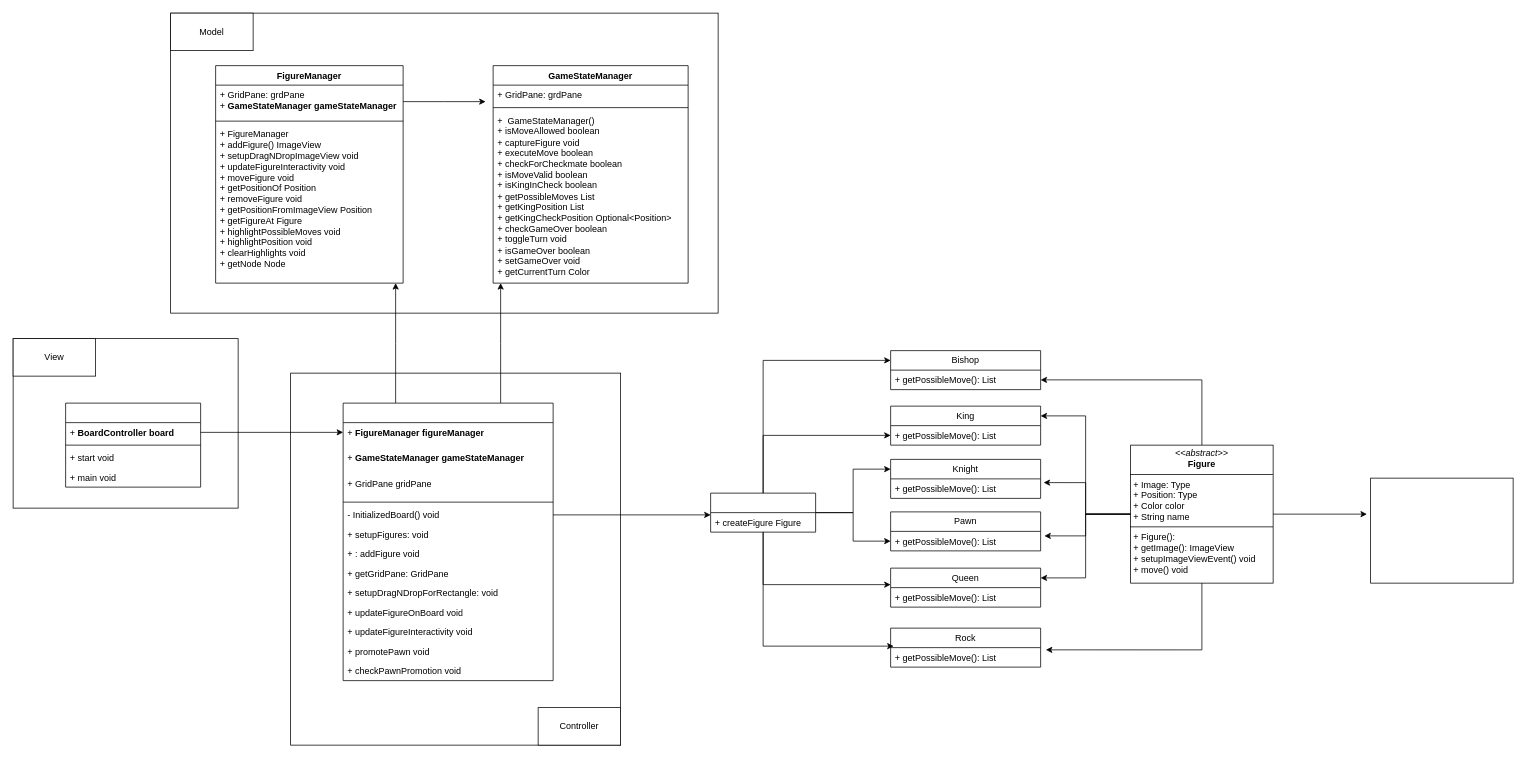
The diagram is 1526 pixels wide and 758 high, and some of its shapes have lost their labels. Here are the shapes that lost their labels. From the top down, the box of each, then its label:
(65, 402, 201, 487): Chess
(710, 492, 816, 532): FigureFactory
(1370, 477, 1513, 583): <<Interface>> MoveLogic + move void + getPossibleMoves: List
(342, 402, 553, 681): BoardController
